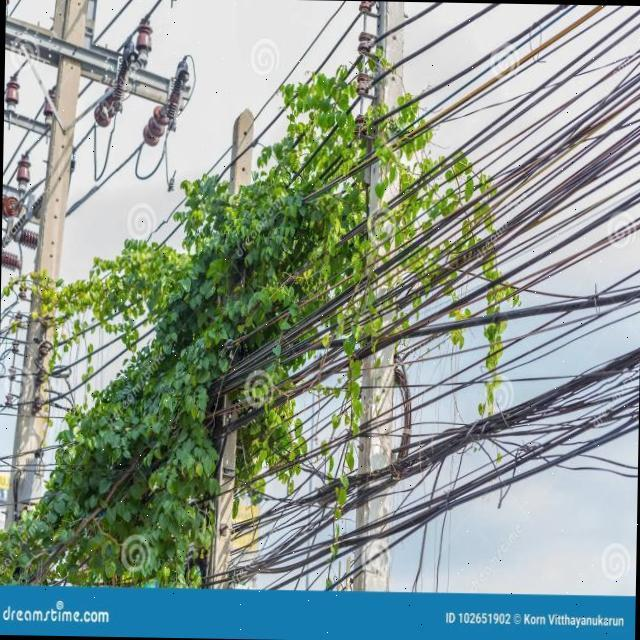critical vegetation: (25, 59, 554, 518)
